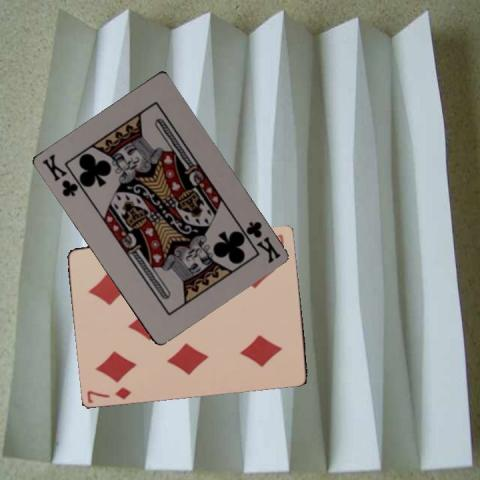7d: (84, 383, 133, 404)
Kc: (38, 151, 78, 198), (242, 218, 282, 265)
